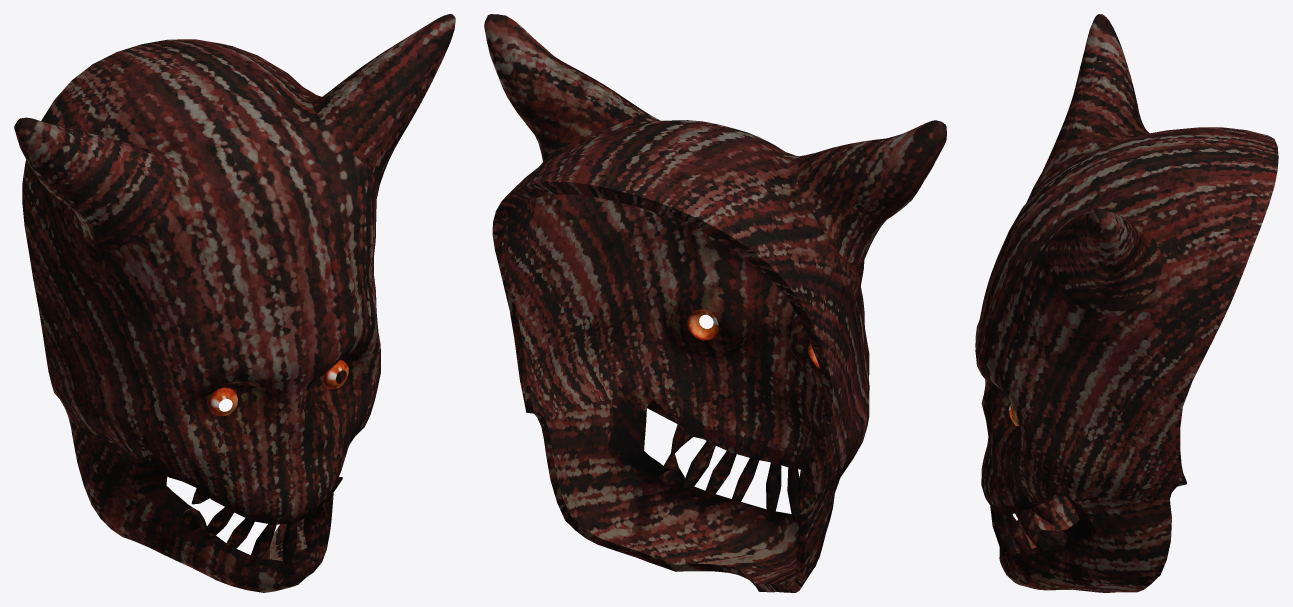
3 views of the same model, side by side, from view 1: azimuth 30°, elevation 25°; view 2: azimuth 150°, elevation 25°; view 3: azimuth 270°, elevation 25° (orthographic). The views are drawn at different scales.
Visible parts, largest first — view 1: demonsssssss; view 2: demonsssssss; view 3: demonsssssss.
Part boxes in pixels (x1,y1,x2,y2): demonsssssss: [14, 14, 455, 592]; demonsssssss: [484, 14, 946, 592]; demonsssssss: [975, 14, 1278, 592].
Bounding box in the file's own units: 170 × 182 × 107.
